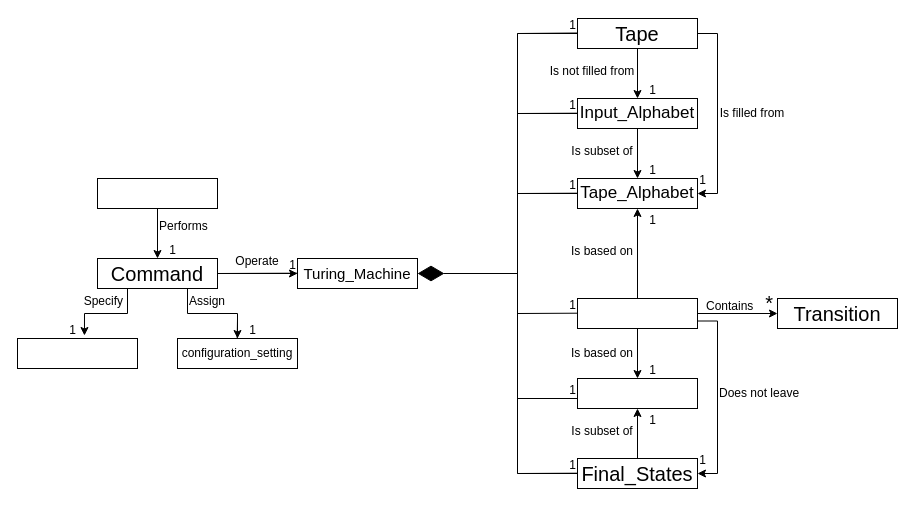
Image size: 915x506. Some labels were removed from this diagram. The shapes that lost their labels are listed below. From the top down, each one's centre as x and y in pixels, then its label:
At [157,193]: "Main".
At [637,313]: "Transition_Function".
At [77,353]: "input_strings".
At [637,393]: "States".
